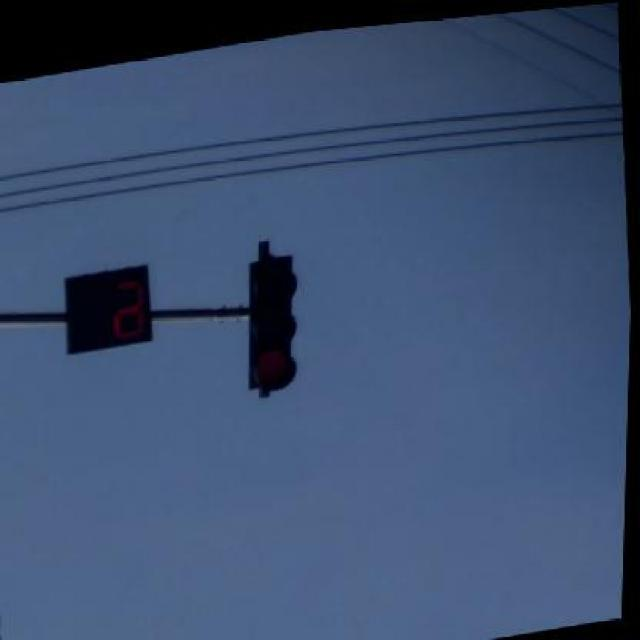red_light: (247, 239, 296, 394)
